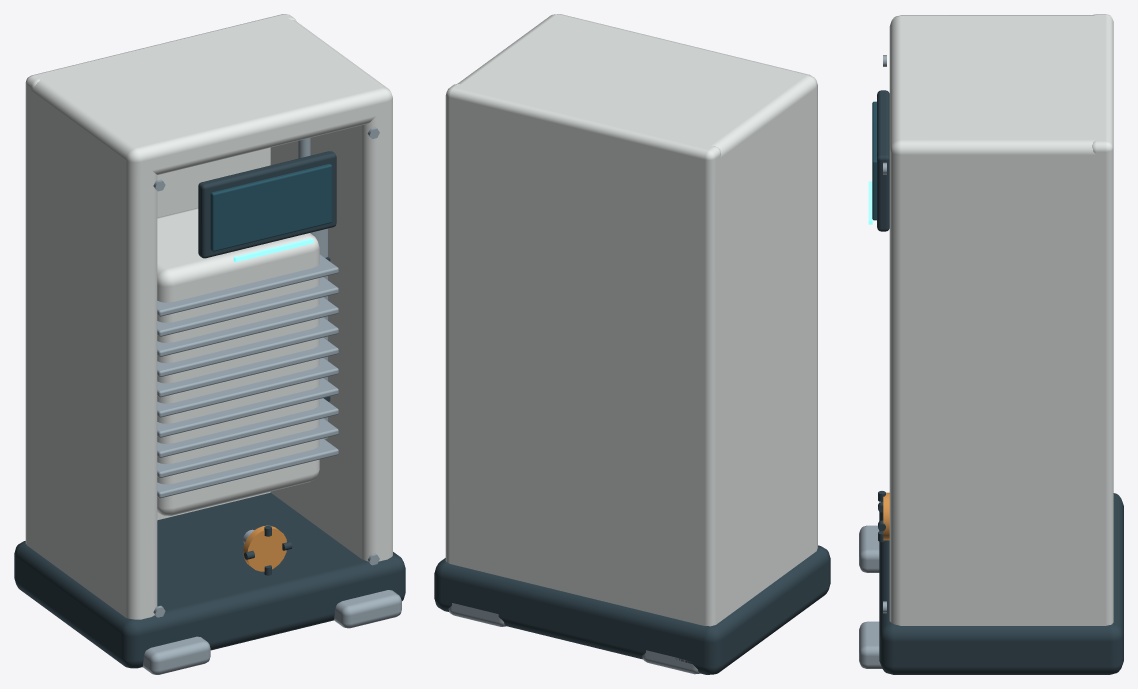
The model's file is OxygenGenerator.glb.
3 renders of one model, left to right at view 1: azimuth 30°, elevation 25°; view 2: azimuth 150°, elevation 25°; view 3: azimuth 270°, elevation 25°, orthographic. The views are drawn at different scales.
Visible parts, largest first — view 1: Structural upright (×2), Top cap, Equipment plinth, Electrolysis insulated cell stack, Stack cooling plate (×10), Insulated back, Blank display, Mounting foot (×2), Control bezel, Valve knob; view 2: Insulated back, Structural upright (×2), Top cap, Equipment plinth, Mounting foot (×2); view 3: Structural upright (×2), Top cap, Equipment plinth, Insulated back, Mounting foot (×2), Control bezel, Blank display.
Boxes of the visible parts, bbox=[...] form: Structural upright (×2): bbox=[28, 16, 392, 619]; Top cap: bbox=[31, 17, 392, 174]; Equipment plinth: bbox=[14, 492, 405, 668]; Electrolysis insulated cell stack: bbox=[157, 208, 319, 515]; Stack cooling plate (×10): bbox=[157, 254, 338, 498]; Insulated back: bbox=[25, 14, 296, 547]; Blank display: bbox=[210, 164, 331, 251]; Mounting foot (×2): bbox=[142, 590, 401, 674]; Control bezel: bbox=[198, 151, 336, 258]; Valve knob: bbox=[243, 525, 286, 571]; Insulated back: bbox=[445, 84, 720, 626]; Structural upright (×2): bbox=[452, 14, 817, 623]; Top cap: bbox=[452, 14, 817, 172]; Equipment plinth: bbox=[434, 545, 830, 674]; Mounting foot (×2): bbox=[448, 603, 699, 674]; Structural upright (×2): bbox=[889, 15, 1102, 625]; Top cap: bbox=[889, 16, 1102, 165]; Equipment plinth: bbox=[879, 493, 1123, 674]; Insulated back: bbox=[1092, 14, 1113, 625]; Mounting foot (×2): bbox=[859, 525, 881, 668]; Control bezel: bbox=[877, 90, 889, 231]; Blank display: bbox=[872, 101, 876, 220].
Bounding box in the file's own units: 0.66 × 1.15 × 0.52.
